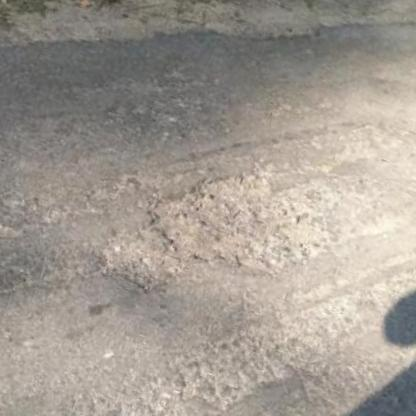pothole: (129, 133, 342, 300), (92, 229, 191, 306)
